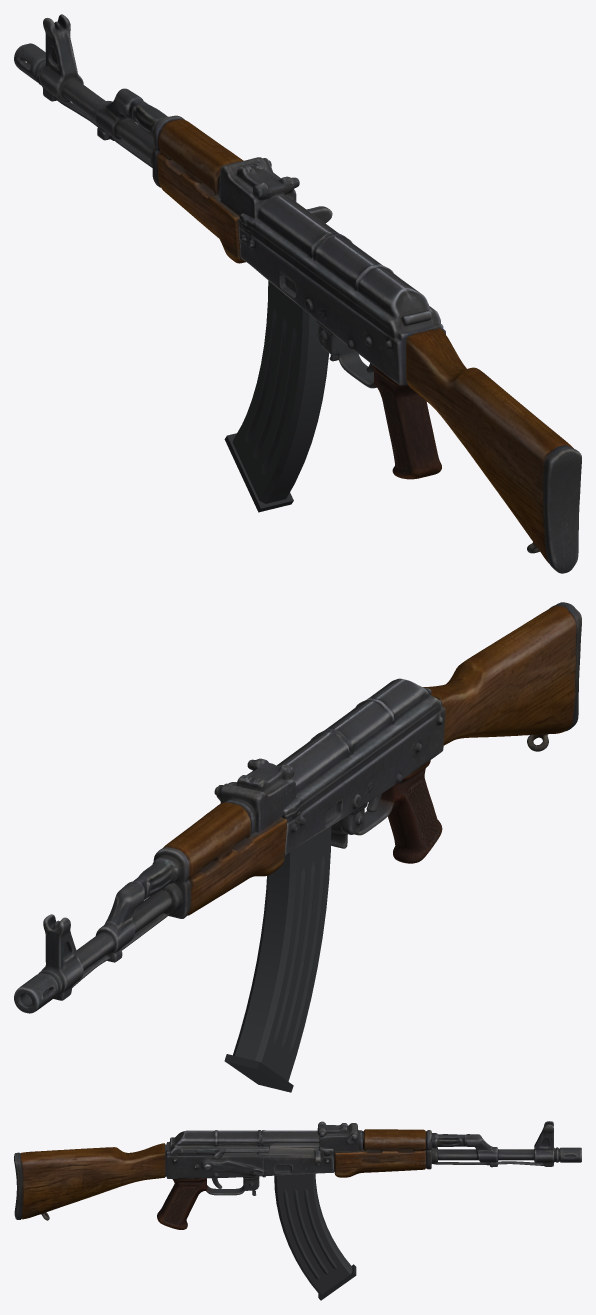
3 views of the same model, one above another, from view 1: azimuth 30°, elevation 25°; view 2: azimuth 150°, elevation 25°; view 3: azimuth 270°, elevation 25° (orthographic). The views are drawn at different scales.
Parts seen in each view (by area): view 1: Body, Magazine; view 2: Body, Magazine; view 3: Body, Magazine.
Boxes of the visible parts, left/top/right/bottom form: Body: left=14, top=14, right=581, bottom=573; Magazine: left=224, top=280, right=329, bottom=512; Body: left=14, top=602, right=581, bottom=1013; Magazine: left=224, top=826, right=331, bottom=1092; Body: left=14, top=1121, right=581, bottom=1229; Magazine: left=274, top=1173, right=356, bottom=1300.
Size of the model in its own units: 0.0761 by 0.2971 by 0.8804.
3 materials, 1 textured.
